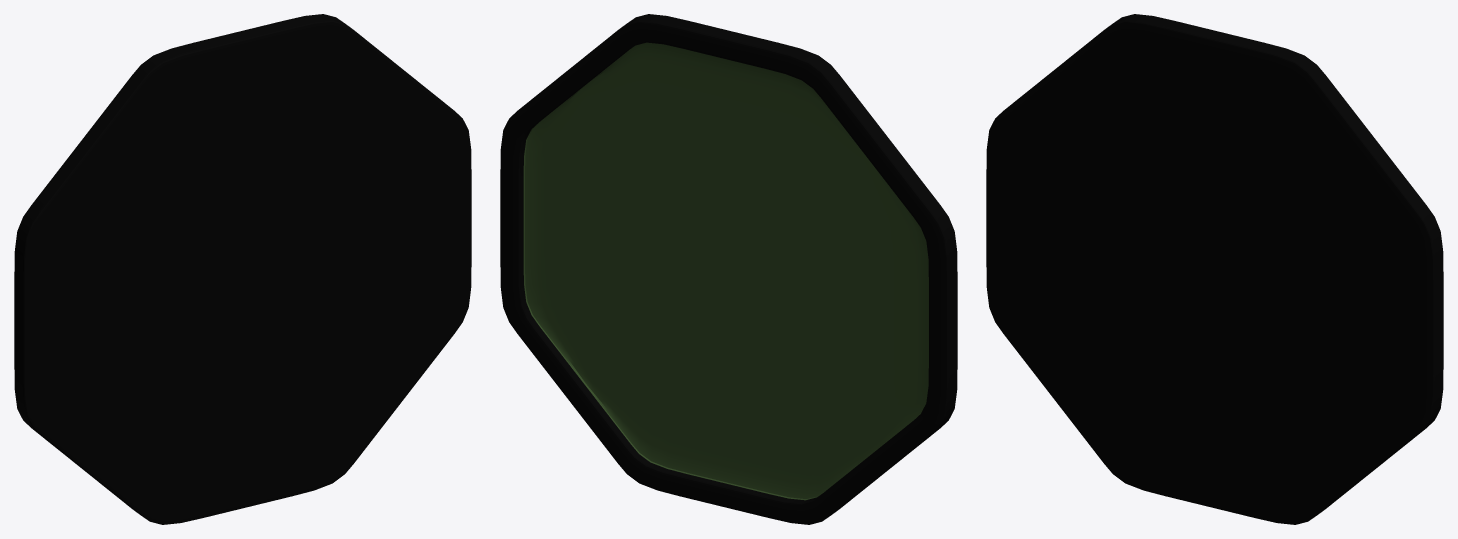
File: Poker Table.fbx
3 views of the same model, side by side, from view 1: azimuth 30°, elevation 25°; view 2: azimuth 150°, elevation 25°; view 3: azimuth 330°, elevation 25° (orthographic).
Visible parts, largest first — view 1: Poker Table; view 2: Poker Table; view 3: Poker Table.
Boxes of the visible parts, x1,y1,x2,y2 form: Poker Table: (14,14,471,524); Poker Table: (500,14,957,524); Poker Table: (986,14,1443,524).
Size of the model in its own units: 10961 by 10961 by 449.
